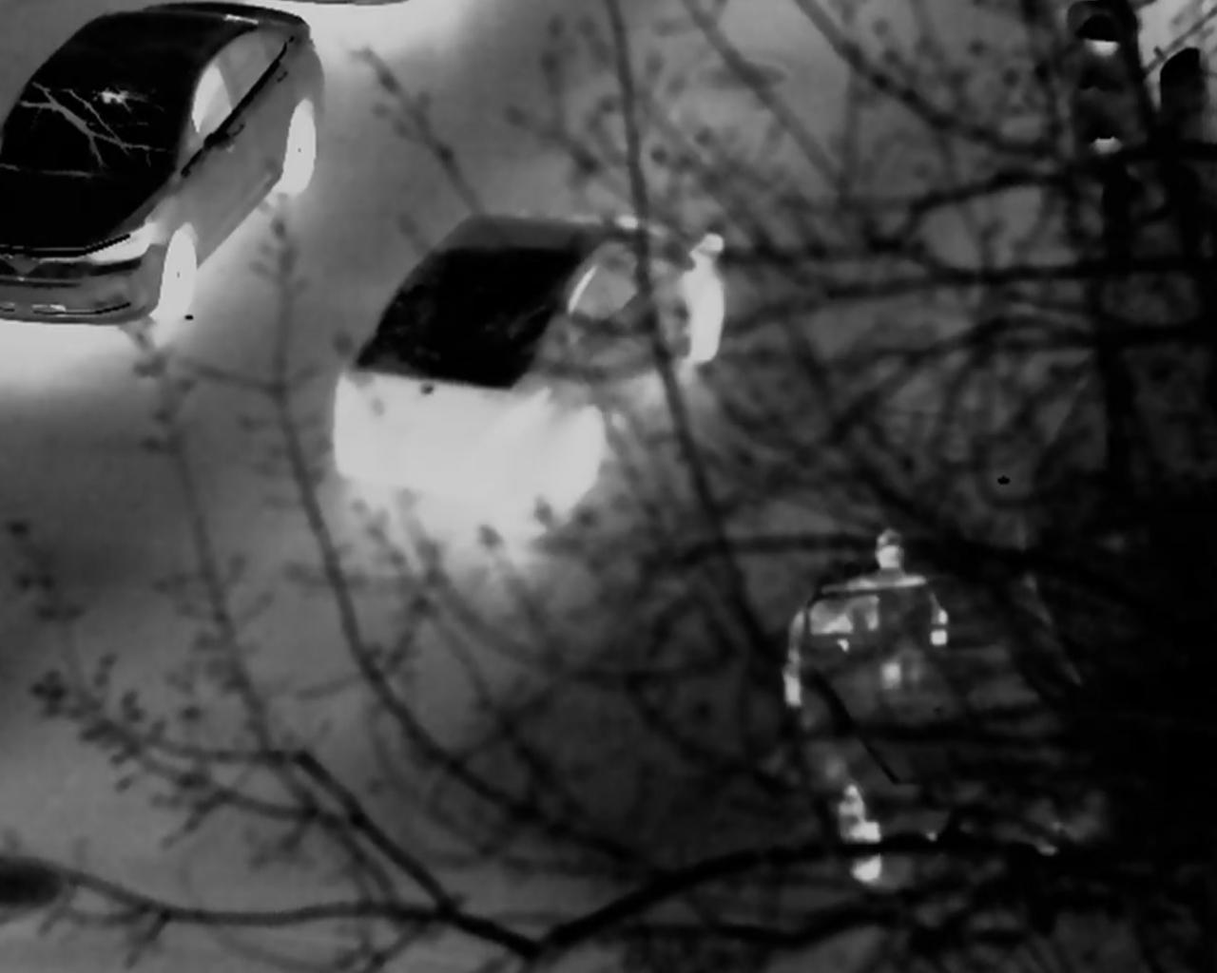person: (816, 517, 949, 693)
